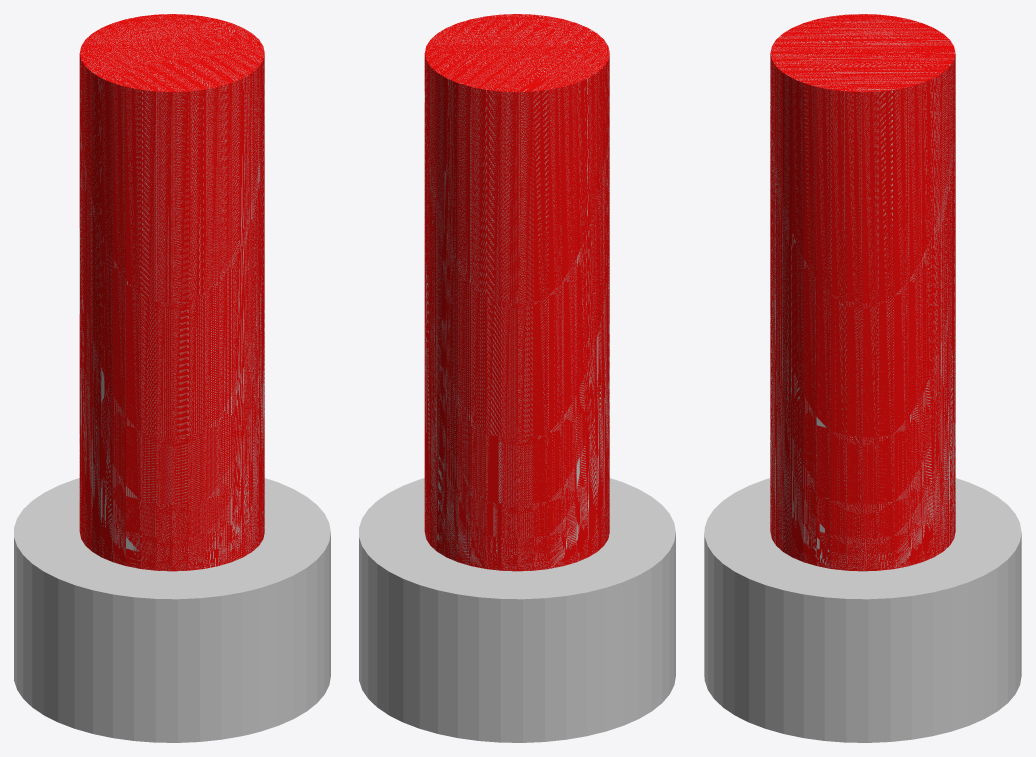
The model's file is totem_red.dae.
3 views of the same model, side by side, from view 1: azimuth 30°, elevation 25°; view 2: azimuth 150°, elevation 25°; view 3: azimuth 270°, elevation 25° (orthographic).
Visible parts, largest first — view 1: skpB037 (×2); view 2: skpB037 (×3); view 3: skpB037 (×3).
Boxes of the visible parts, x1,y1,x2,y2 form: skpB037 (×2): (14,14,330,742); skpB037 (×3): (359,14,675,742); skpB037 (×3): (704,14,1021,742).
Bounding box in the file's own units: 2.36 × 2.36 × 5.12.
